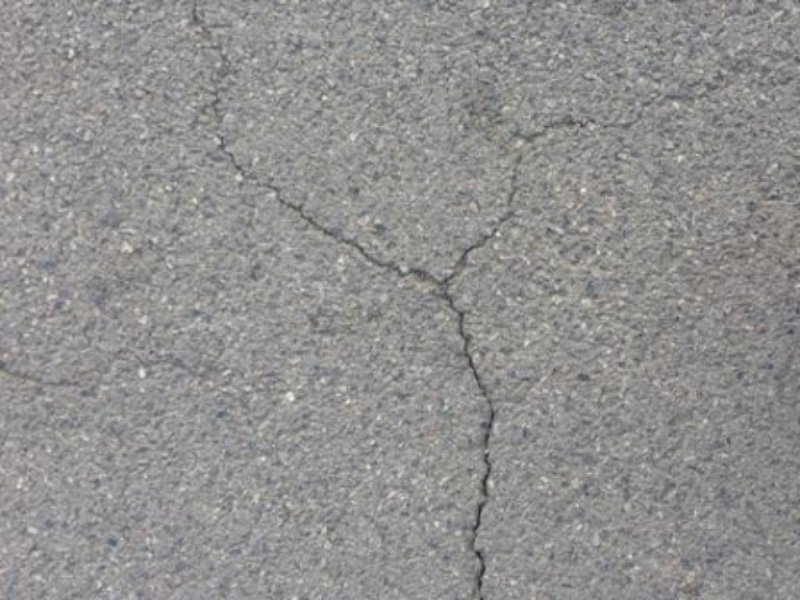crack: (166, 10, 571, 294), (406, 274, 529, 593)
